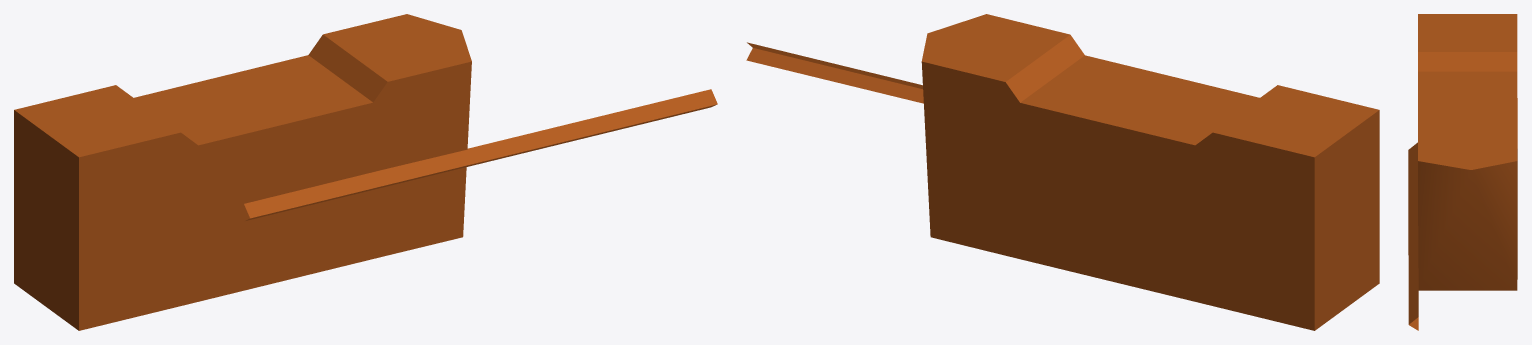
File: radio.obj
3 views of the same model, side by side, from view 1: azimuth 30°, elevation 25°; view 2: azimuth 150°, elevation 25°; view 3: azimuth 270°, elevation 25° (orthographic). The views are drawn at different scales.
Visible parts, largest first — view 1: Box01; view 2: Box01; view 3: Box01.
Boxes of the visible parts, box(x1,y1,x2,y2) form: Box01: box(14, 14, 717, 330); Box01: box(746, 14, 1379, 330); Box01: box(1408, 14, 1517, 330).
Size of the model in its own units: 37.93 by 9.94 by 7.4.
